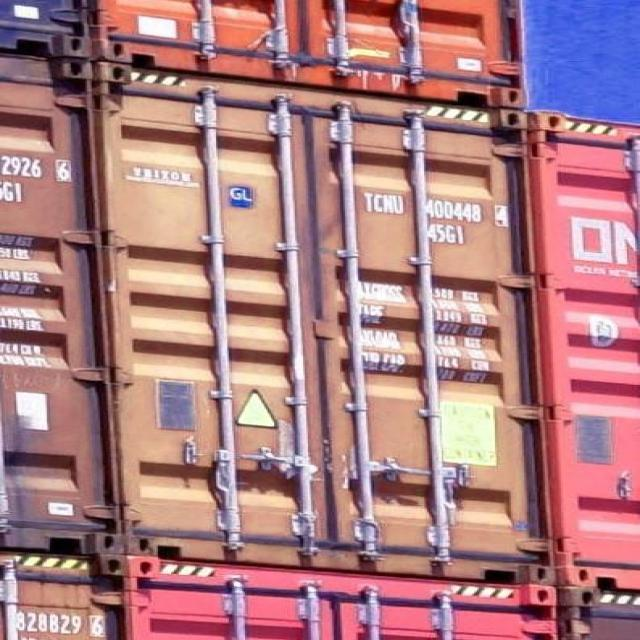ISO: (426, 223, 471, 245)
container_number: (364, 196, 510, 224)
